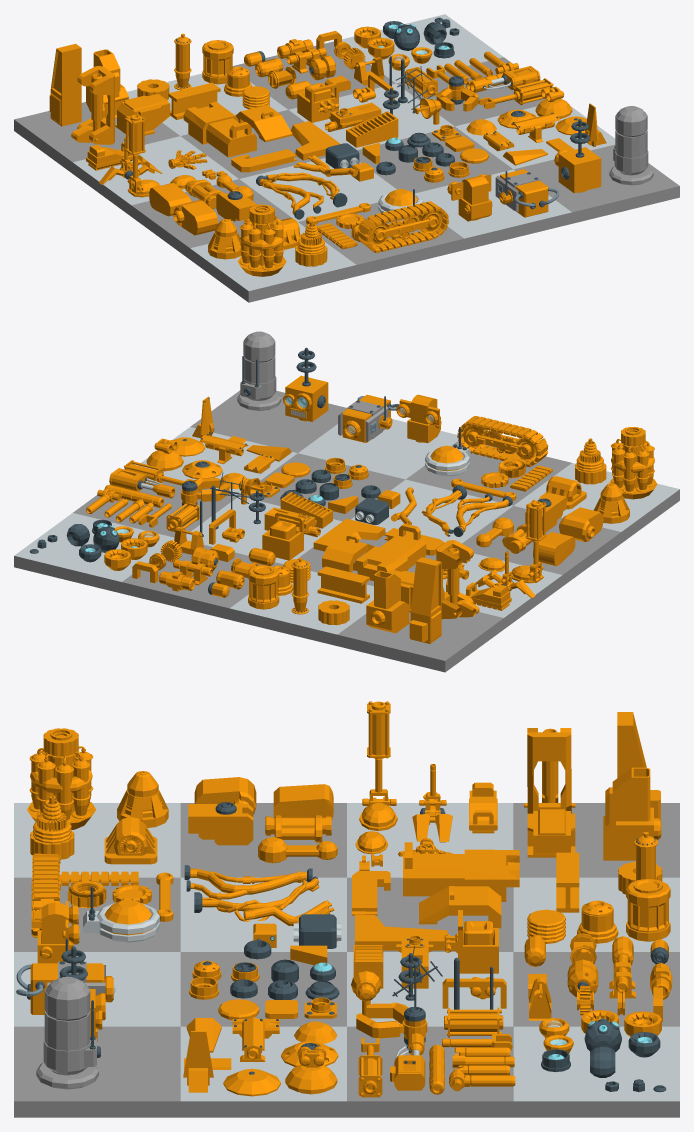
File: RoboKitCentered.FBX
The picture shows the model from 3 angles, top to bottom: view 1: azimuth 30°, elevation 25°; view 2: azimuth 150°, elevation 25°; view 3: azimuth 270°, elevation 25°; orthographic projection. The views are drawn at different scales.
Parts seen in each view (by area): view 1: mesh268338215, PistonEngine, mesh688506095, mesh1496452478, mesh1382497750, mesh343780156, AntennaHEad, CyclopsHead, Track, FlatHead, mesh441424166, mesh351022381 (+46 smaller); view 2: mesh268338215, mesh688506095, PistonEngine, mesh1382497750, mesh1496452478, AntennaHEad, mesh343780156, CyclopsHead, mesh1985620446, Track, FlatHead, mesh351022381 (+36 smaller); view 3: mesh268338215, mesh688506095, PistonEngine, mesh1496452478, mesh1985620446, mesh343780156, BigLeg, mesh420411442, mesh1352069677, mesh2105933479, mesh131285351, mesh351022381 (+59 smaller).
Part boxes in pixels (box(x1,y1,x2,y2)): mesh268338215: box(14, 14, 679, 302); PistonEngine: box(237, 204, 286, 276); mesh688506095: box(609, 106, 653, 185); mesh1496452478: box(183, 101, 256, 157); mesh1382497750: box(49, 43, 81, 126); mesh343780156: box(71, 66, 114, 144); AntennaHEad: box(554, 119, 601, 193); CyclopsHead: box(495, 169, 559, 217); Track: box(357, 201, 448, 252); FlatHead: box(447, 174, 492, 221); mesh441424166: box(115, 94, 170, 136); mesh351022381: box(297, 83, 339, 122); mesh268338215: box(14, 390, 679, 672); mesh688506095: box(237, 331, 281, 410); PistonEngine: box(609, 427, 657, 499); mesh1382497750: box(409, 557, 441, 643); mesh1496452478: box(353, 523, 426, 580); AntennaHEad: box(282, 347, 328, 421); mesh343780156: box(436, 540, 479, 619); CyclopsHead: box(338, 394, 399, 442); mesh1985620446: box(366, 570, 409, 633); Track: box(457, 416, 548, 467); FlatHead: box(396, 394, 441, 443); mesh351022381: box(262, 511, 304, 560); mesh268338215: box(14, 803, 679, 1117); mesh688506095: box(36, 976, 100, 1089); PistonEngine: box(27, 728, 96, 829); mesh1496452478: box(403, 842, 519, 901); mesh1985620446: box(603, 767, 661, 860); mesh343780156: box(524, 728, 575, 813); BigLeg: box(359, 701, 397, 830); mesh420411442: box(83, 886, 159, 942); mesh1352069677: box(626, 879, 670, 941); mesh2105933479: box(188, 802, 253, 845); mesh131285351: box(419, 886, 501, 928); mesh351022381: box(444, 910, 498, 973).
Bounding box in the file's own units: 344 × 67.25 × 323.
